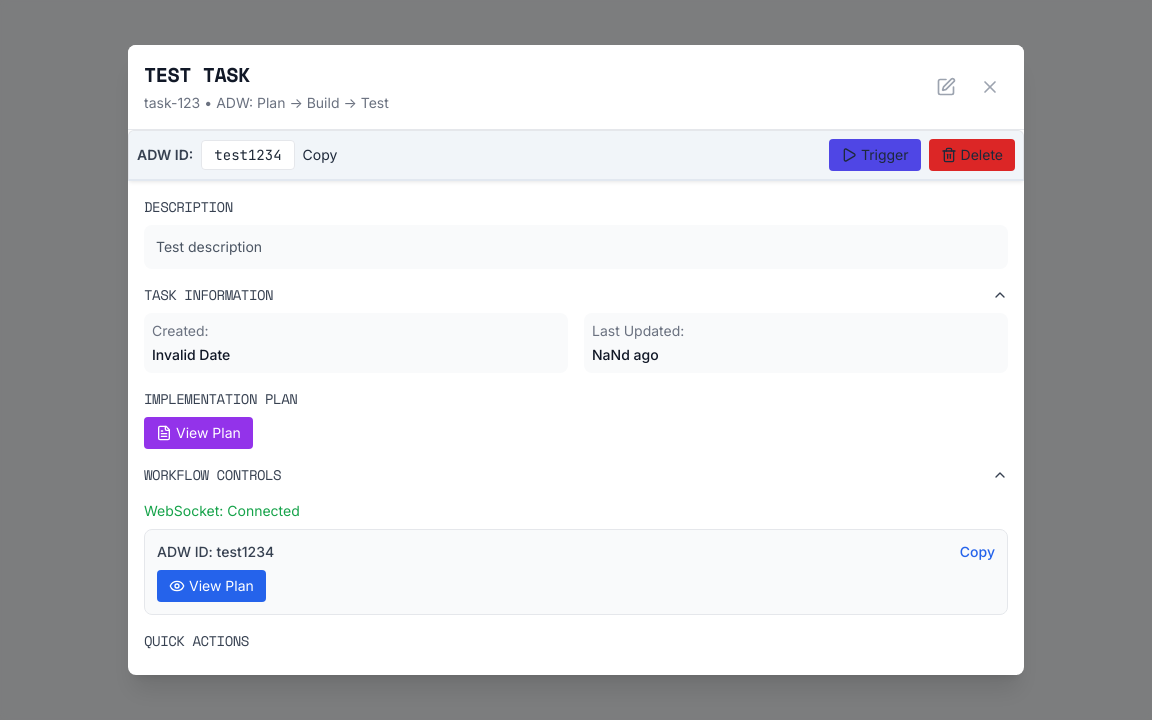
Test case: Delete Workflow Button Enhanced Tests › closes confirmation modal after deletion completes (failure case)
Note: Open delete confirmation
Step 1. Click the button "Delete" → coordinates (972, 155), box x1=929 y1=139 x2=1015 y2=171
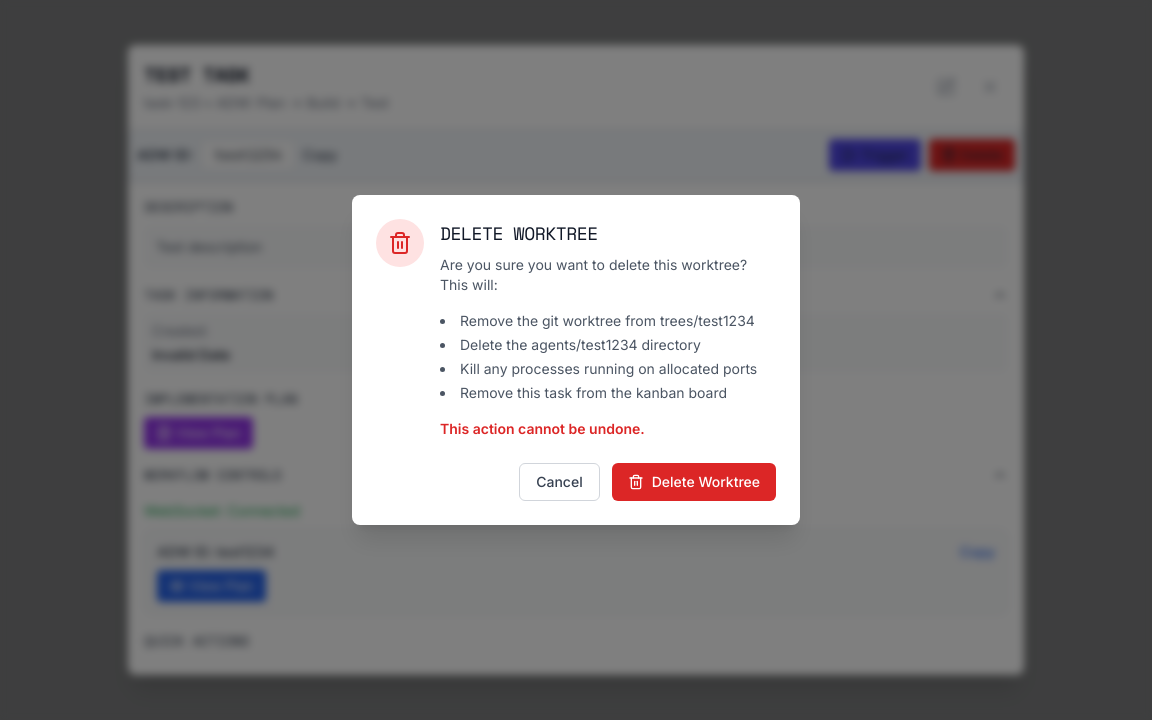
Check: the heading "Delete Worktree" is shown, box x1=440 y1=220 x2=598 y2=246
Note: Click confirm button
Step 2. Click the button "Delete Worktree" → coordinates (694, 482), box x1=612 y1=463 x2=776 y2=501
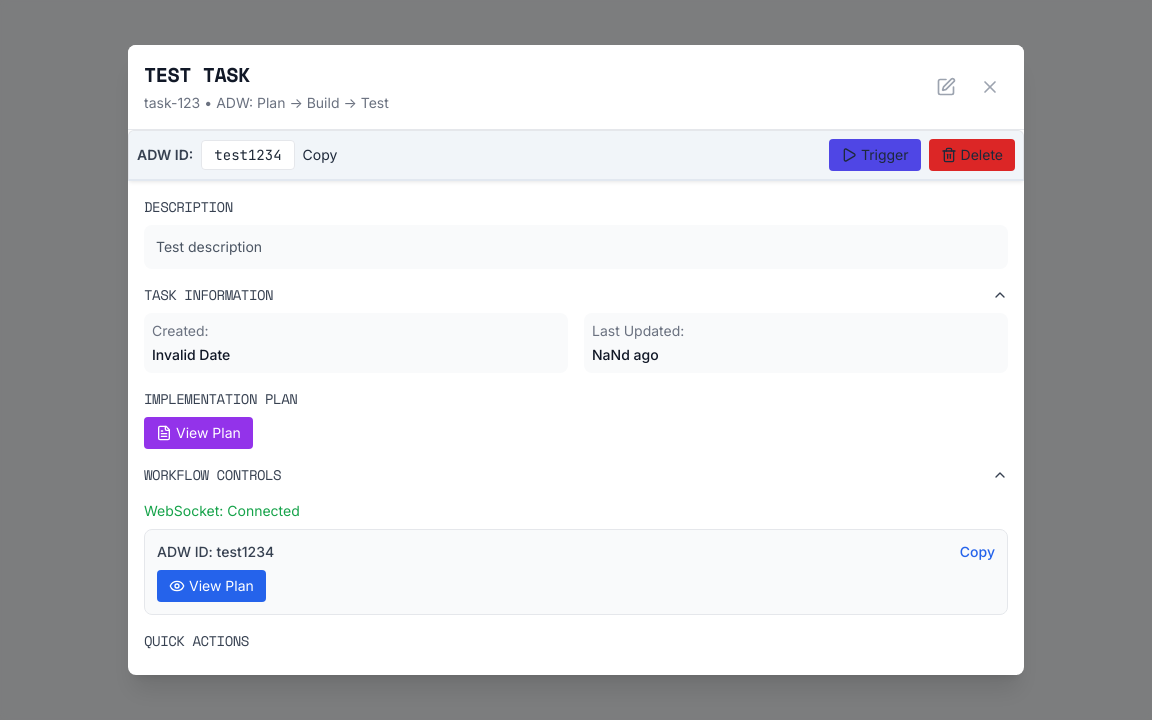
Check: the heading "Delete Worktree" is gone
